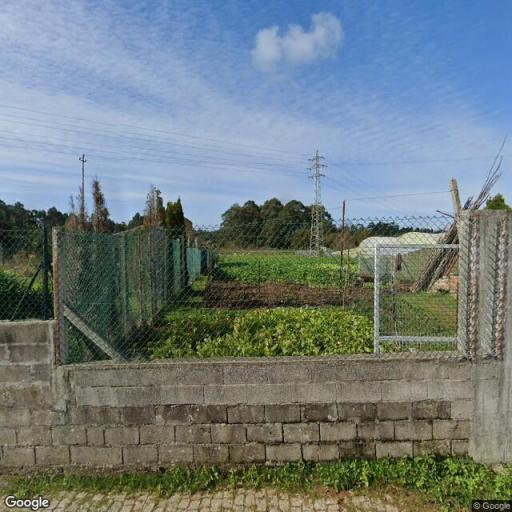ss_3: (306, 147, 328, 255)
